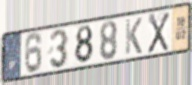3: (46, 27, 71, 70)
6: (24, 31, 43, 76)
8: (72, 24, 94, 65), (99, 19, 118, 62)
K: (124, 16, 143, 57)
X: (147, 11, 171, 55)
